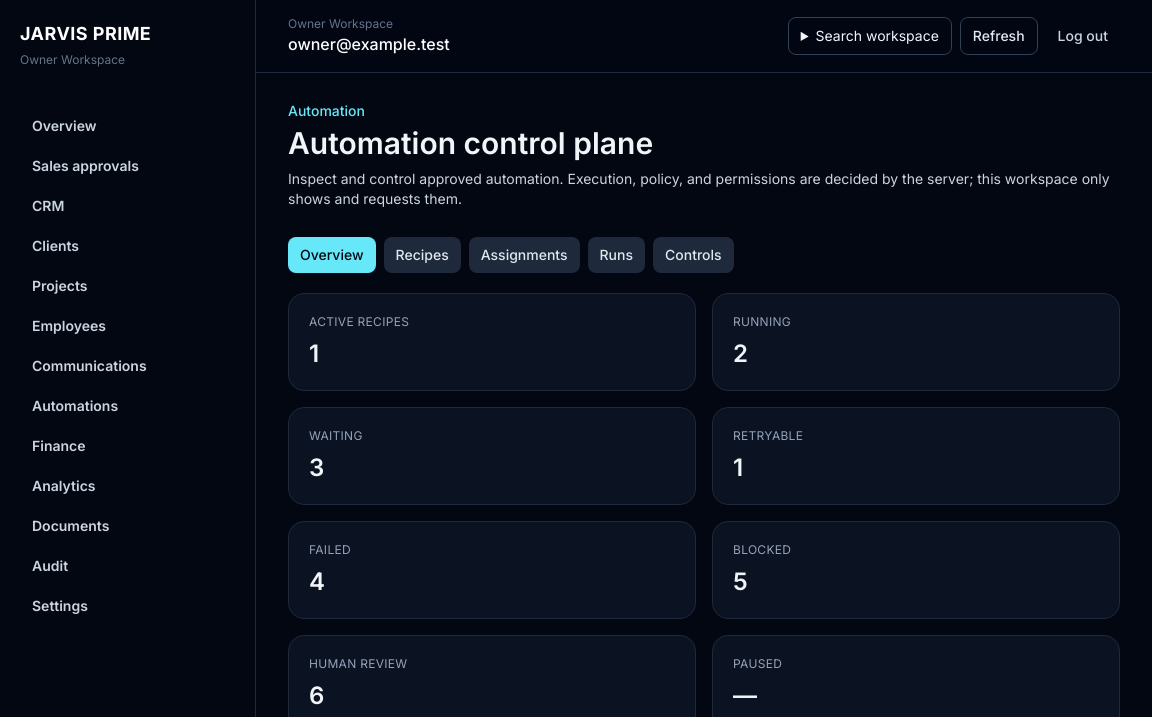
Test: Owner automation control plane › includes idempotency keys for Owner pause and clear controls
Step 1. Click the tab "Controls" → (693, 255), box top-left (653, 237), bottom-right (734, 273)
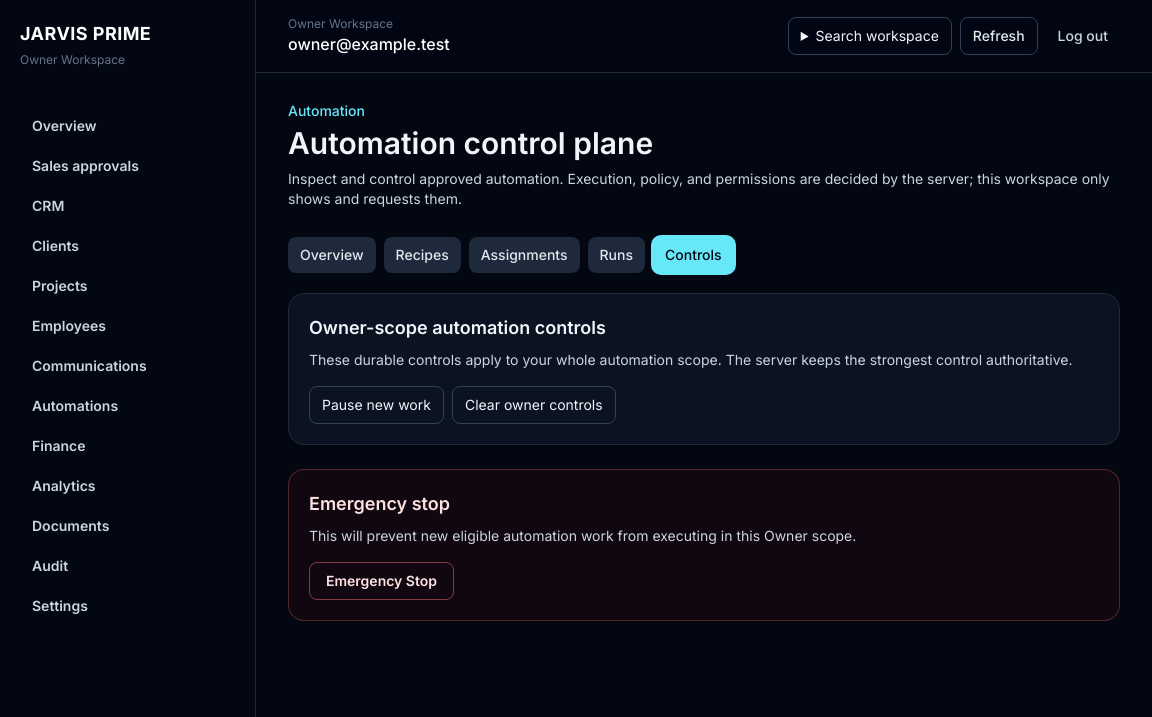
Step 2. Click the button "Pause new work" → (376, 405), box top-left (309, 386), bottom-right (444, 424)
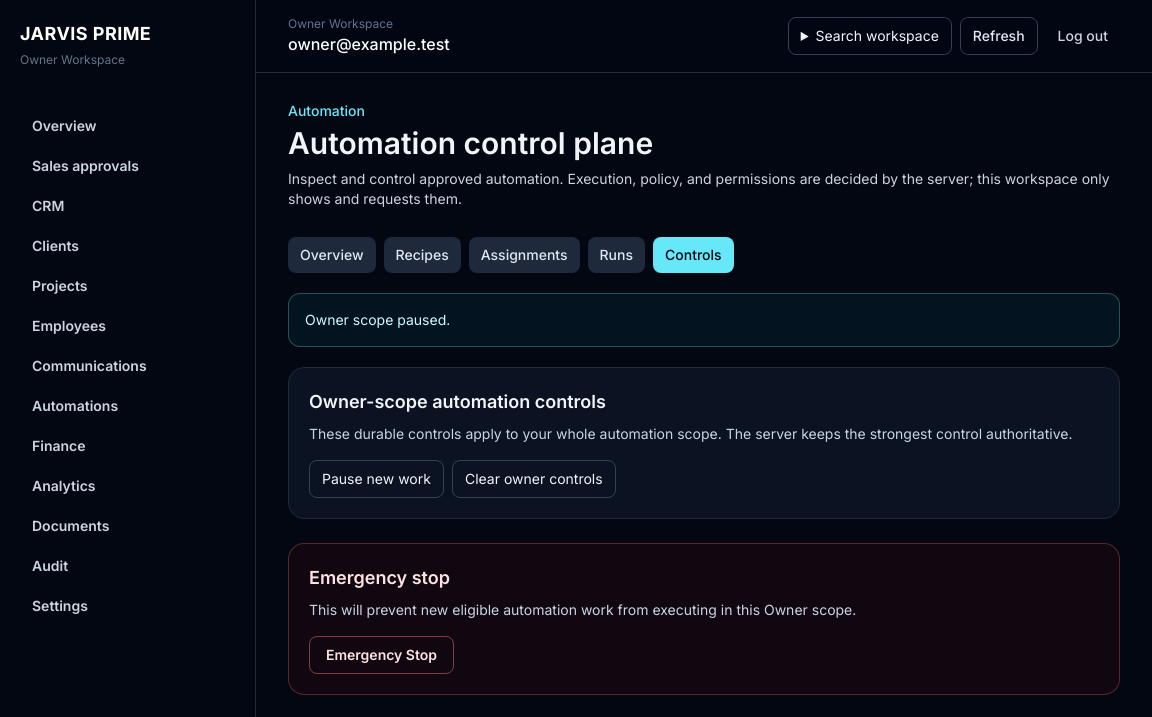
Now the text "Owner scope paused." is shown, box top-left (288, 293), bottom-right (1120, 347)
Step 3. Click the button "Clear owner controls" → (534, 479), box top-left (452, 460), bottom-right (616, 498)
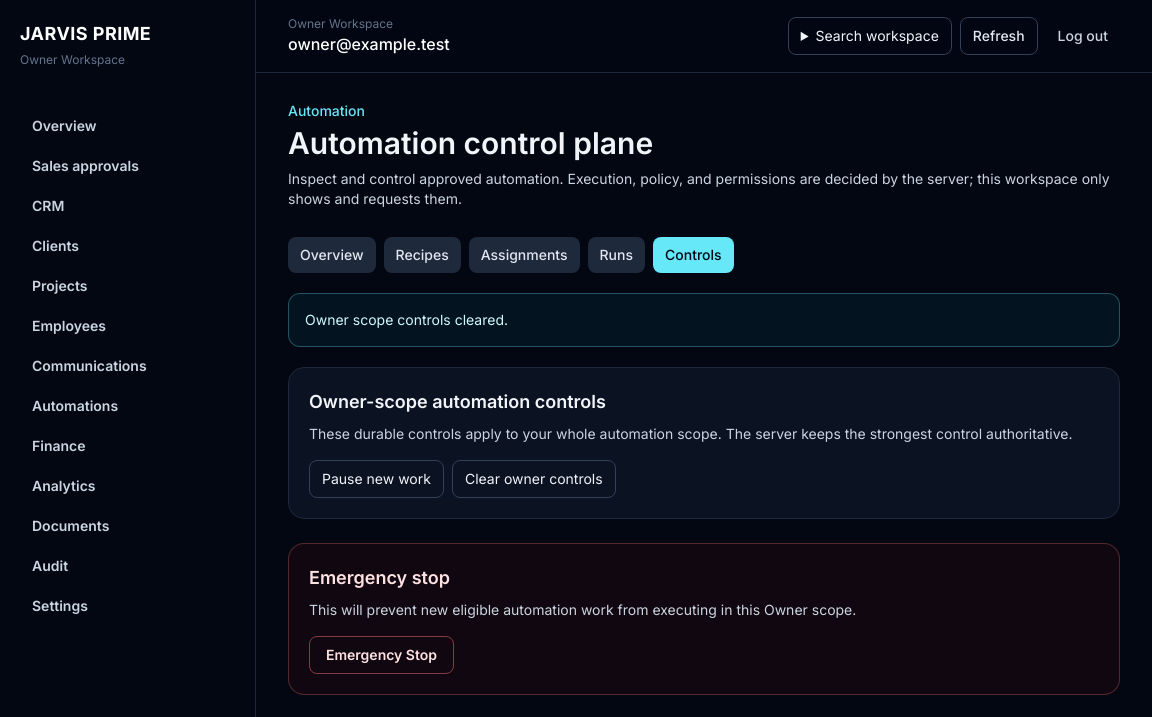
Now the text "Owner scope controls cleared." is shown, box top-left (288, 293), bottom-right (1120, 347)
